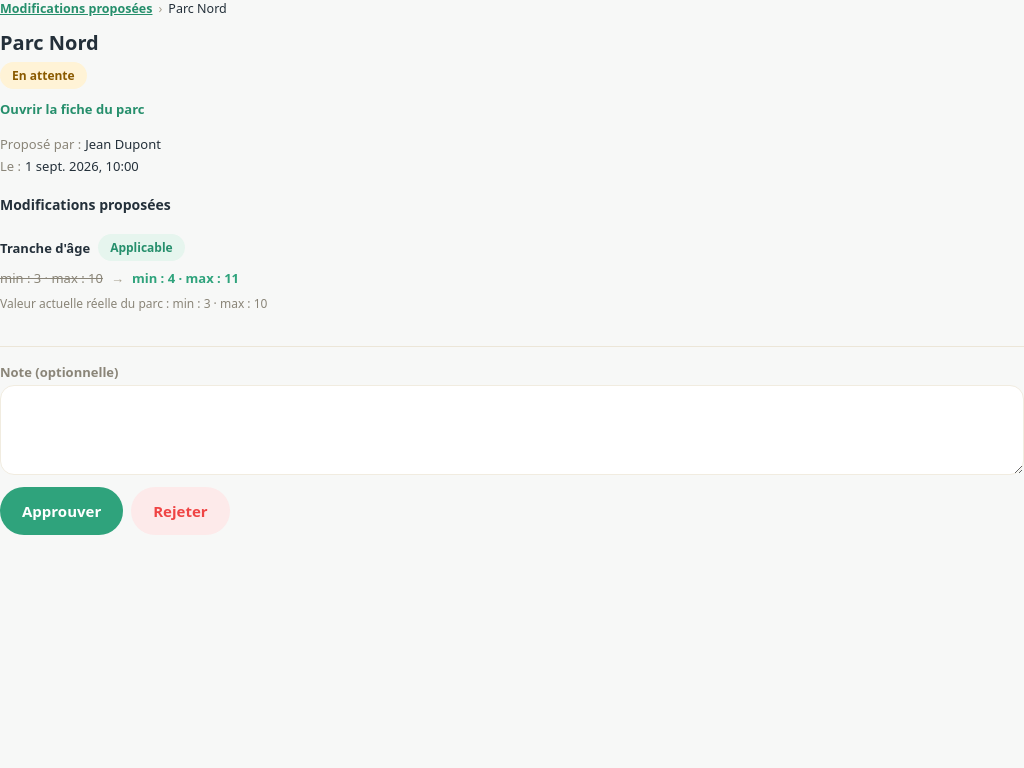
it: ValidationDetail — Admin-3B-2 › rejette via la RPC avec la note saisie, après confirmation
This screenshot has width=1024, height=768.
Check: the heading "Parc Nord" is shown, box [0,29,99,56]
Type "Doublon" into the text box labelled "Note (optionnelle)".
click(512, 430); type("Doublon")  # box [0,385,1023,475]
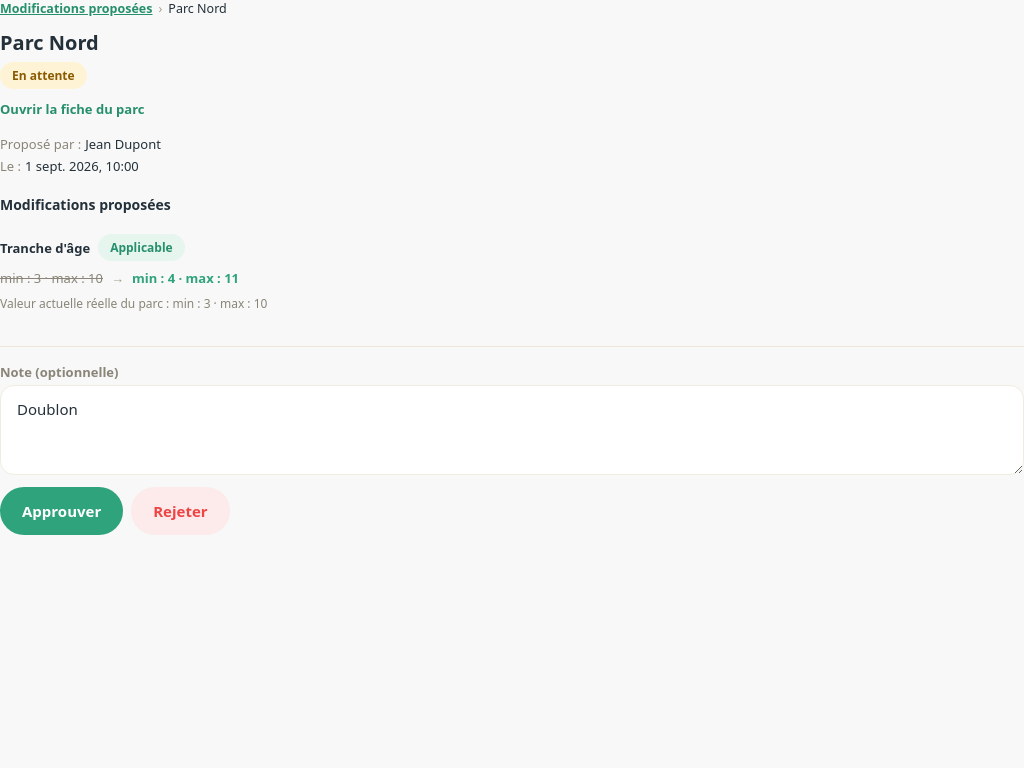
Click the button "Rejeter".
click(180, 511)  # box [131,487,230,535]
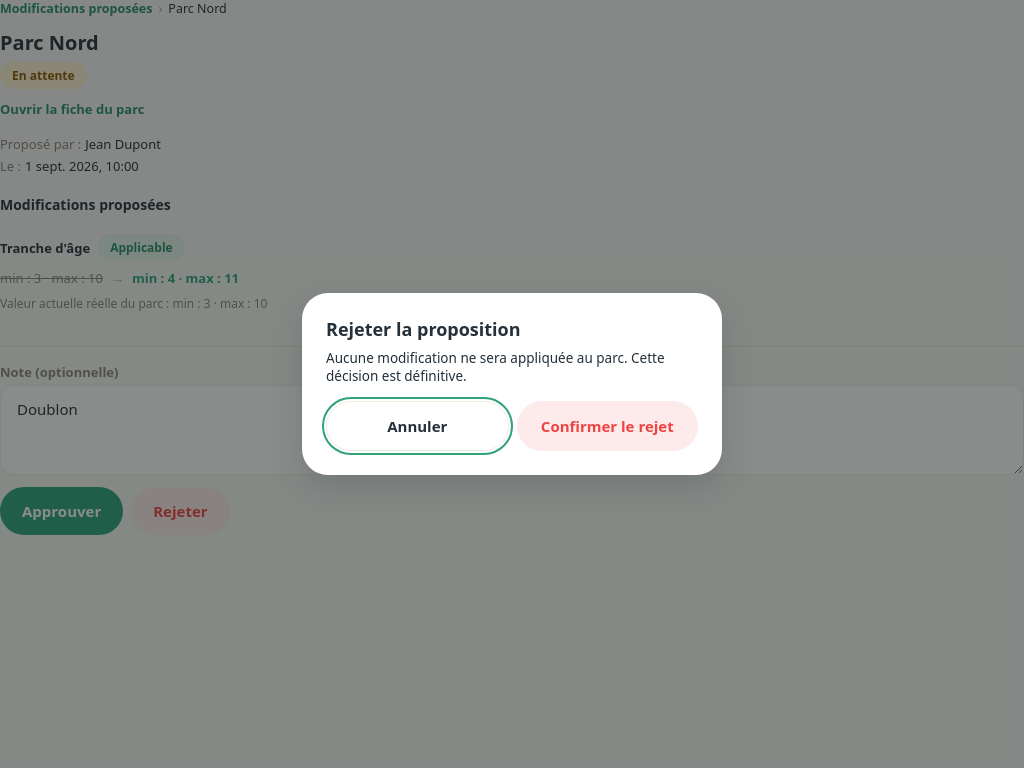
Check: the heading "Rejeter la proposition" is shown, box [326,317,521,341]
Click the button "Confirmer le rejet".
click(607, 426)  # box [517,401,698,451]
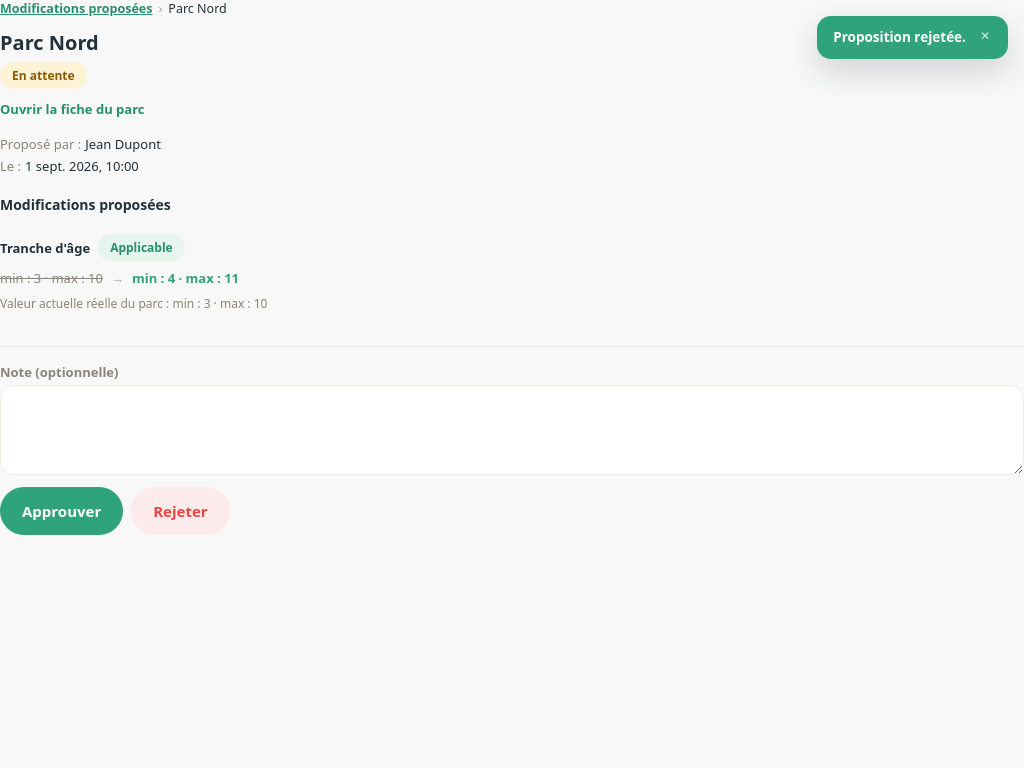
Check: the text "Proposition rejetée." is shown, box [833,28,966,47]
